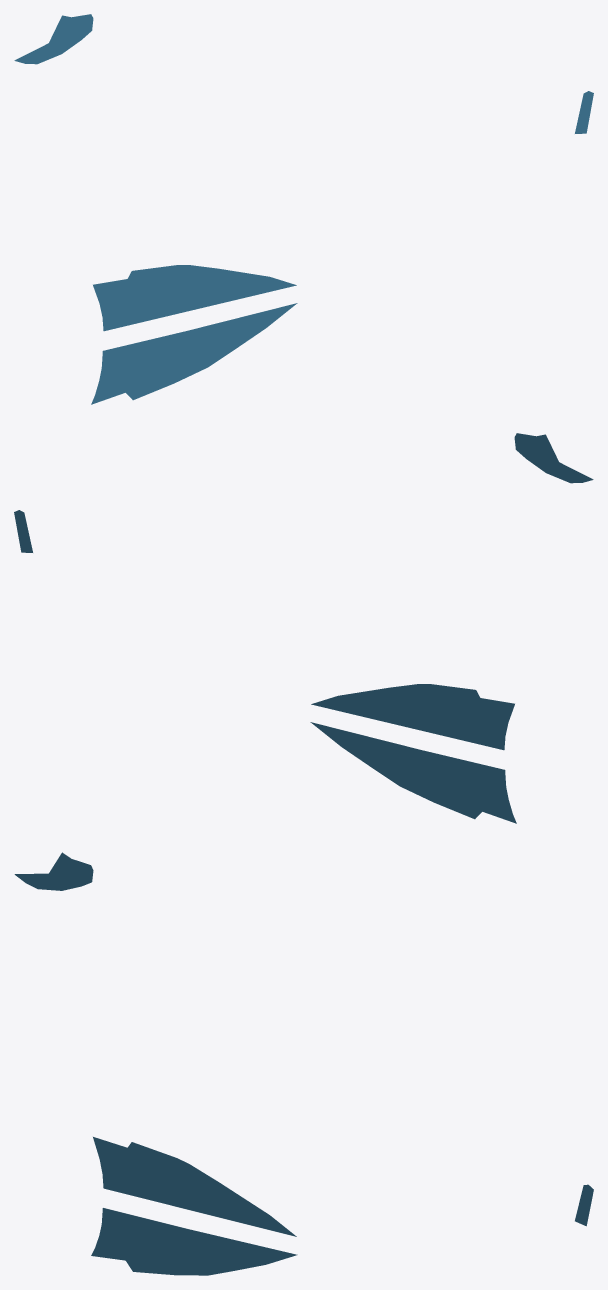
The model's file is water.obj.
3 views of the same model, one above another, from view 1: azimuth 30°, elevation 25°; view 2: azimuth 150°, elevation 25°; view 3: azimuth 330°, elevation 25° (orthographic).
Visible parts, largest first — view 1: guangzhou_haixinsha_water; view 2: guangzhou_haixinsha_water; view 3: guangzhou_haixinsha_water.
Boxes of the visible parts, left/top/right/bottom form: guangzhou_haixinsha_water: left=14, top=14, right=593, bottom=404; guangzhou_haixinsha_water: left=14, top=433, right=593, bottom=823; guangzhou_haixinsha_water: left=14, top=852, right=593, bottom=1275.
Bounding box in the file's own units: 753 × 499 × 0.
